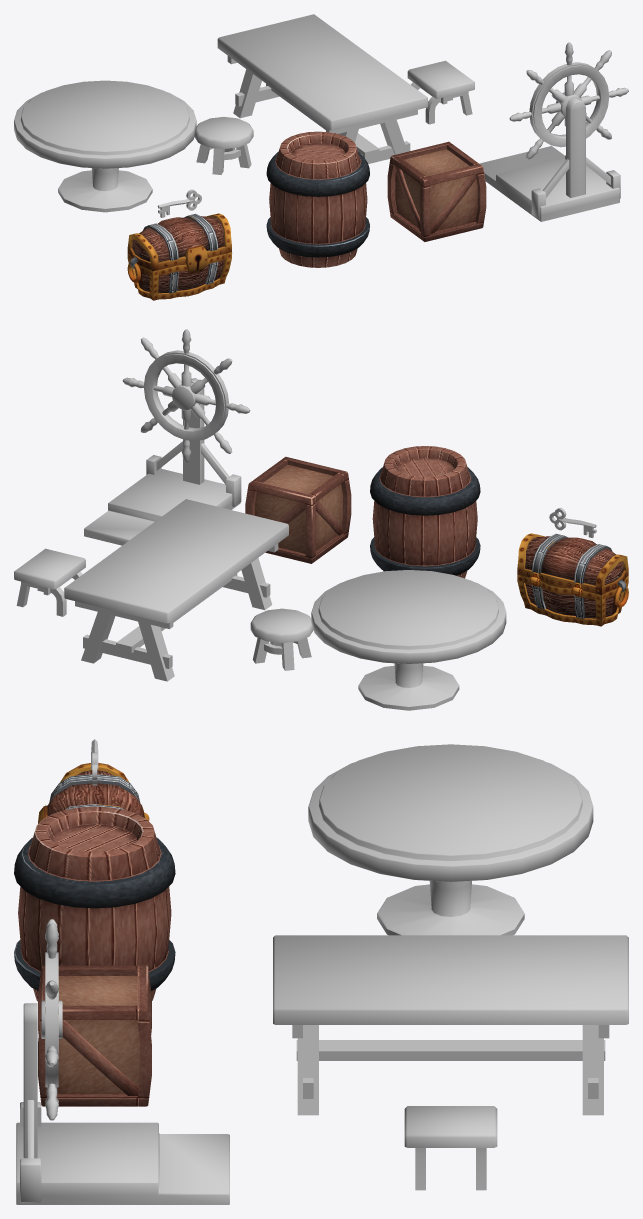
Rendered from PirateProps.fbx.
3 views of the same model, one above another, from view 1: azimuth 30°, elevation 25°; view 2: azimuth 150°, elevation 25°; view 3: azimuth 270°, elevation 25° (orthographic). The views are drawn at different scales.
Parts seen in each view (by area): view 1: Table, LongTable, Helm, Barrel, Box, TreasureChest, Stool, SquareStool, Key; view 2: LongTable, Table, Helm, Barrel, TreasureChest, Box, Stool, SquareStool, Key; view 3: LongTable, Table, Barrel, Helm, Box, SquareStool, TreasureChest.
Boxes of the visible parts, box(x1,y1,x2,y2) form: Table: box(14, 80, 196, 212); LongTable: box(217, 14, 427, 163); Helm: box(479, 42, 628, 221); Barrel: box(266, 131, 369, 267); Box: box(387, 141, 486, 241); TreasureChest: box(127, 213, 232, 300); Stool: box(194, 117, 253, 174); SquareStool: box(407, 60, 474, 124); Key: box(157, 189, 201, 217); LongTable: box(64, 499, 288, 681); Table: box(311, 570, 506, 710); Helm: box(84, 329, 250, 545); Barrel: box(370, 446, 480, 578); TreasureChest: box(517, 533, 628, 626); Box: box(245, 456, 351, 563); Stool: box(250, 608, 313, 670); SquareStool: box(14, 548, 85, 616); Key: box(549, 508, 596, 537); LongTable: box(273, 935, 628, 1115); Table: box(308, 744, 593, 935); Barrel: box(14, 806, 175, 1001); Helm: box(16, 919, 229, 1204); Box: box(38, 965, 151, 1106); SquareStool: box(404, 1106, 497, 1190); TreasureChest: box(38, 763, 149, 823).
Bounding box in the file's own units: 2445 × 779 × 1727.
